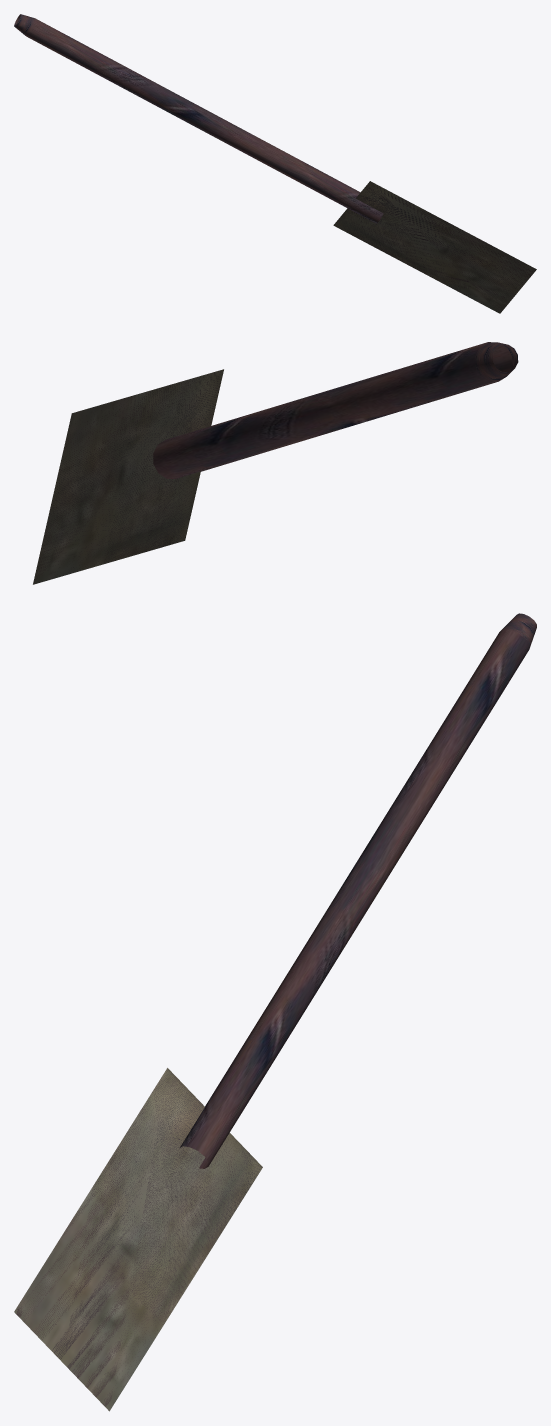
The model's file is shovelwield.glb.
3 views of the same model, one above another, from view 1: azimuth 30°, elevation 25°; view 2: azimuth 150°, elevation 25°; view 3: azimuth 270°, elevation 25° (orthographic). The views are drawn at different scales.
Visible parts, largest first — view 1: shovelwield.ms3d.mo; view 2: shovelwield.ms3d.mo; view 3: shovelwield.ms3d.mo.
Part boxes in pixels (x1,y1,x2,y2): shovelwield.ms3d.mo: (14,14,536,313); shovelwield.ms3d.mo: (33,342,518,584); shovelwield.ms3d.mo: (14,613,536,1411).
Size of the model in its own units: 32.1 by 24.45 by 23.06.
2 materials, 2 textured.
